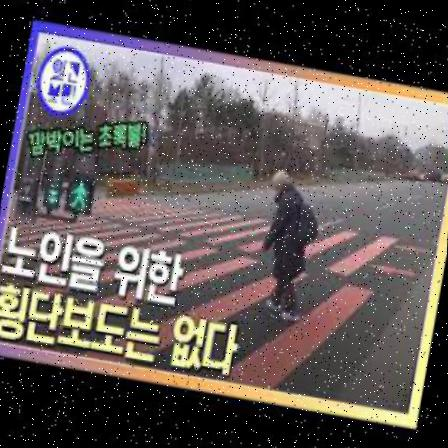silver: (246, 164, 325, 322)
